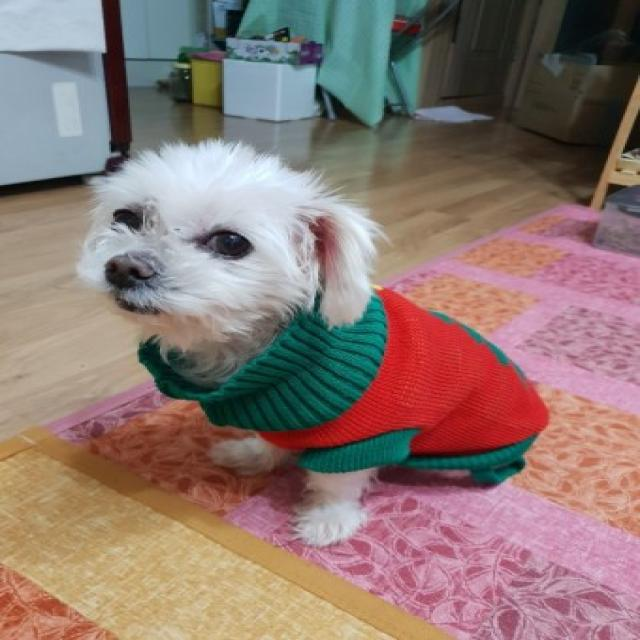cloth: (82, 144, 548, 545)
